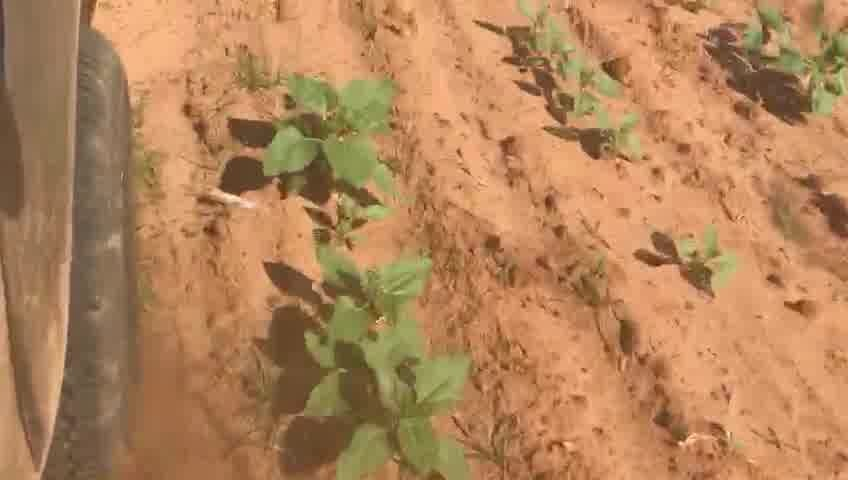sunflower: (300, 353, 491, 477), (262, 73, 403, 197), (289, 246, 439, 360), (725, 8, 808, 73), (546, 57, 632, 118), (305, 187, 390, 244), (513, 12, 587, 74), (671, 224, 743, 286), (792, 40, 837, 130), (595, 110, 656, 173)
